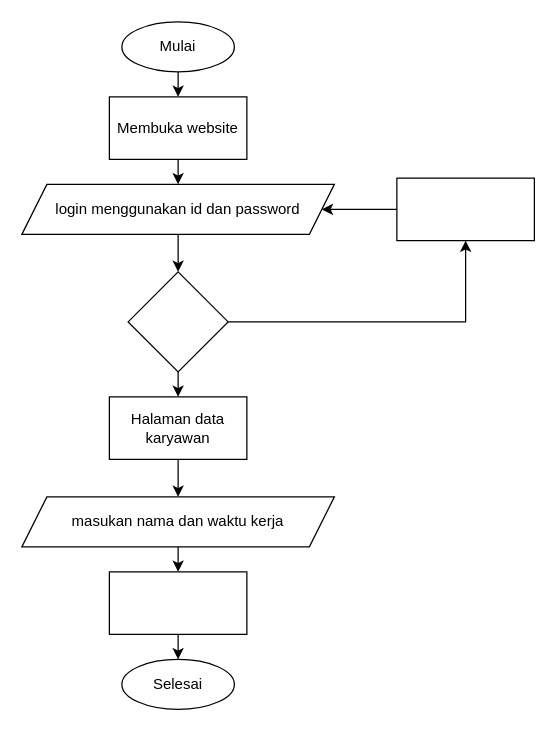
The diagram is 556 pixels wide and 731 high, and some of its shapes have lost their labels. Here are the shapes that lost their labels. From the top down, the box of each, then its label:
(396, 177, 534, 241): Memuat ulang halaman login
(127, 271, 228, 372): id dan password
(108, 571, 247, 634): Membuat jadwal
